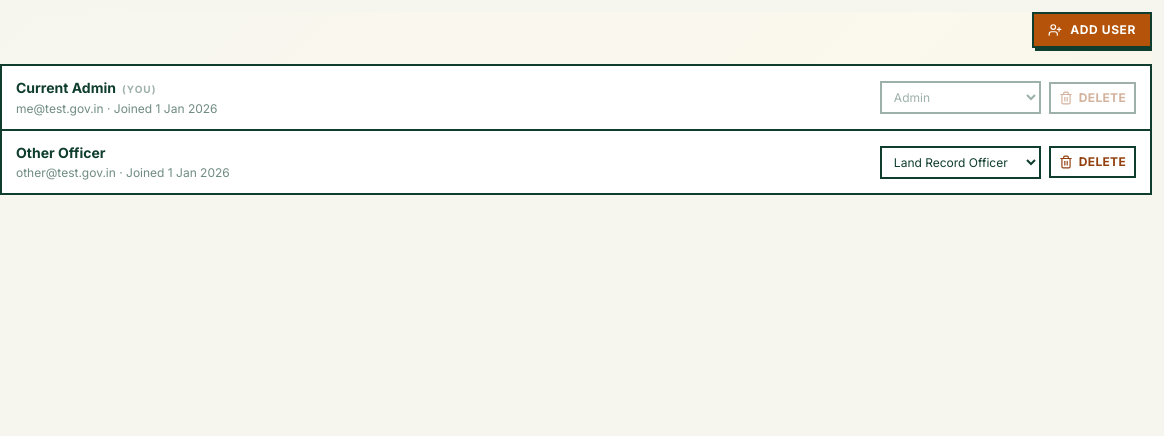
Scenario: UserManagement › shows a specific error for a duplicate email (409)
The image size is (1164, 436).
Expected: the text "Current Admin" is shown, [16,79,116,96]
Click the button "Add User": [1092, 30] box [1032,12,1152,48]
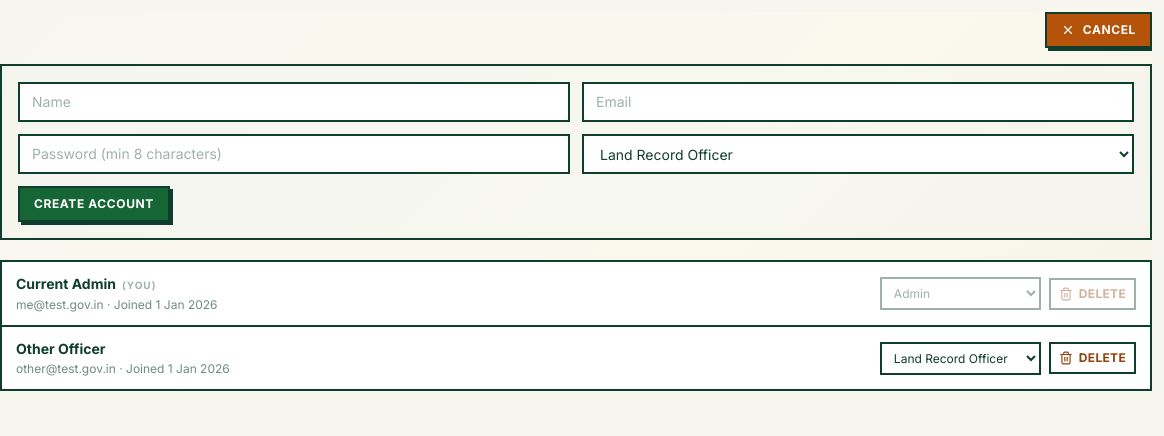
In the field with placeholder "Name": [294, 102] box [18,82,570,122], type "Dup"
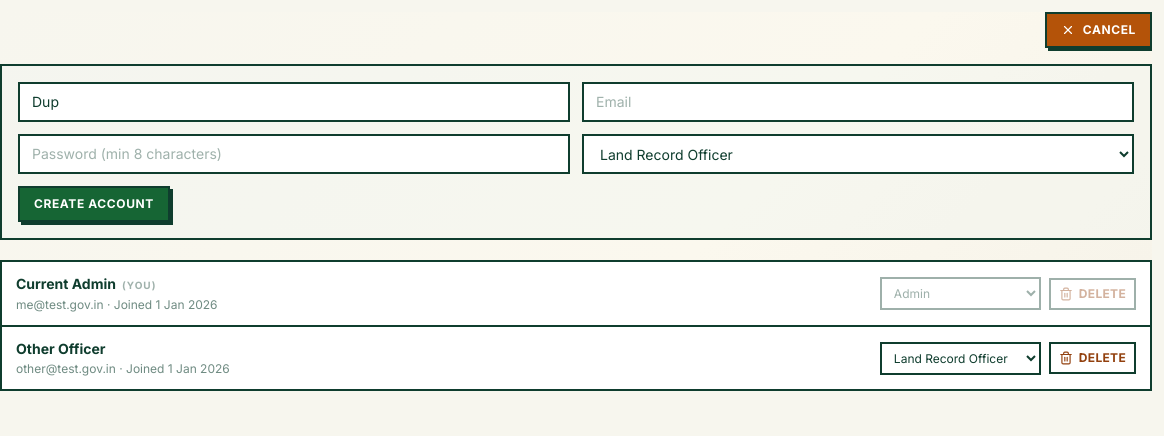
In the field with placeholder "Email": [858, 102] box [582,82,1134,122], type "other@test.gov.in"
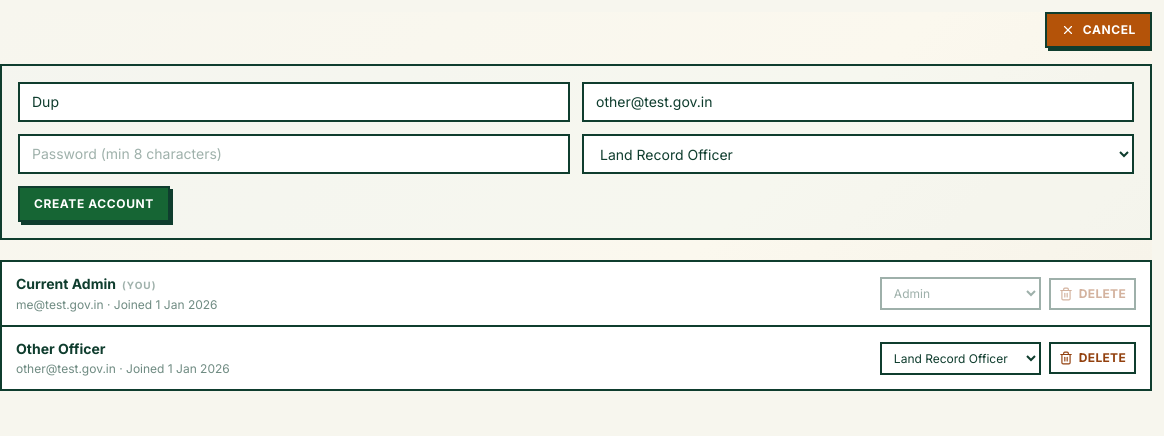
In the password field with placeholder "Password (min 8 characters)": [294, 154] box [18,134,570,174], type "SecurePass123"
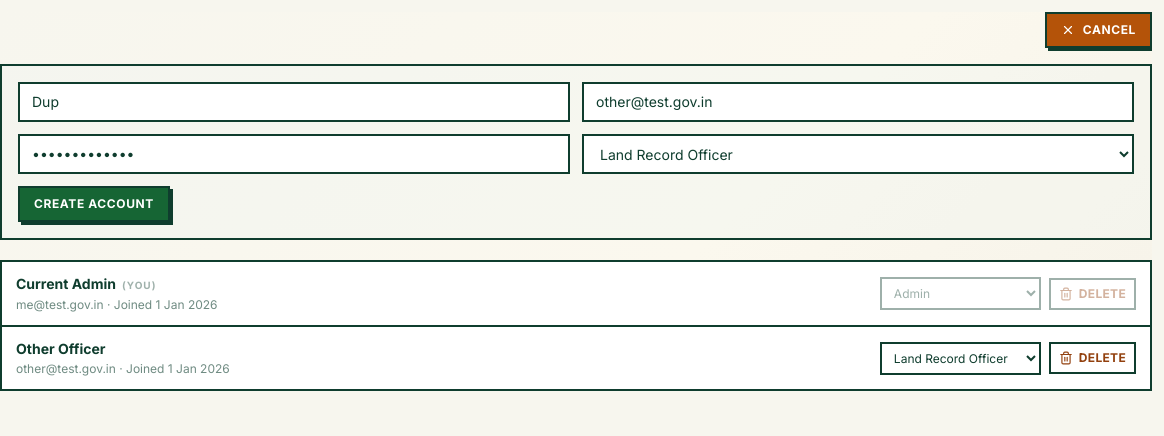
Click the button "Create Account": [94, 204] box [18,186,170,222]
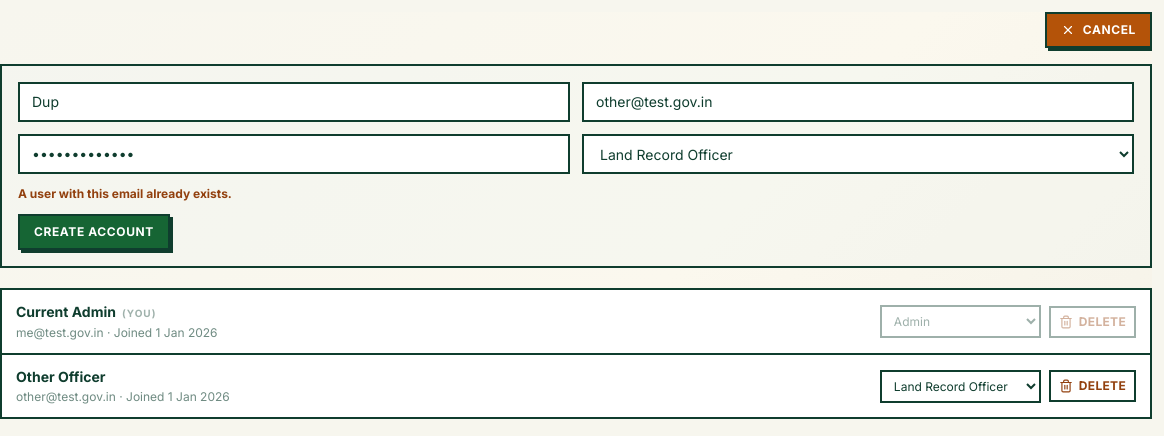
Now the text "A user with this email already exists." is shown, box [18,186,232,201]
